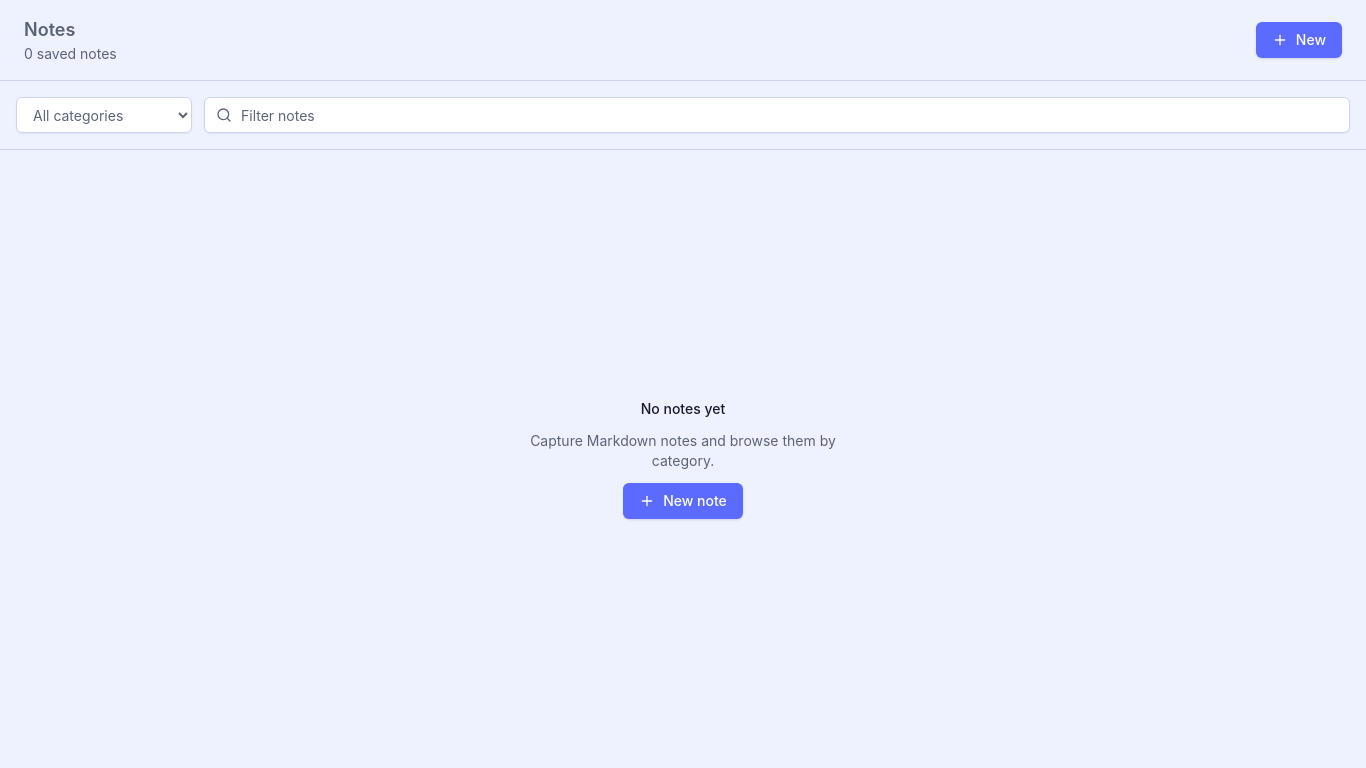
it: NotesListView › toggles write and preview modes in the editor
Click the button "New" at coordinates (1299, 40), box [1256, 22, 1342, 58]
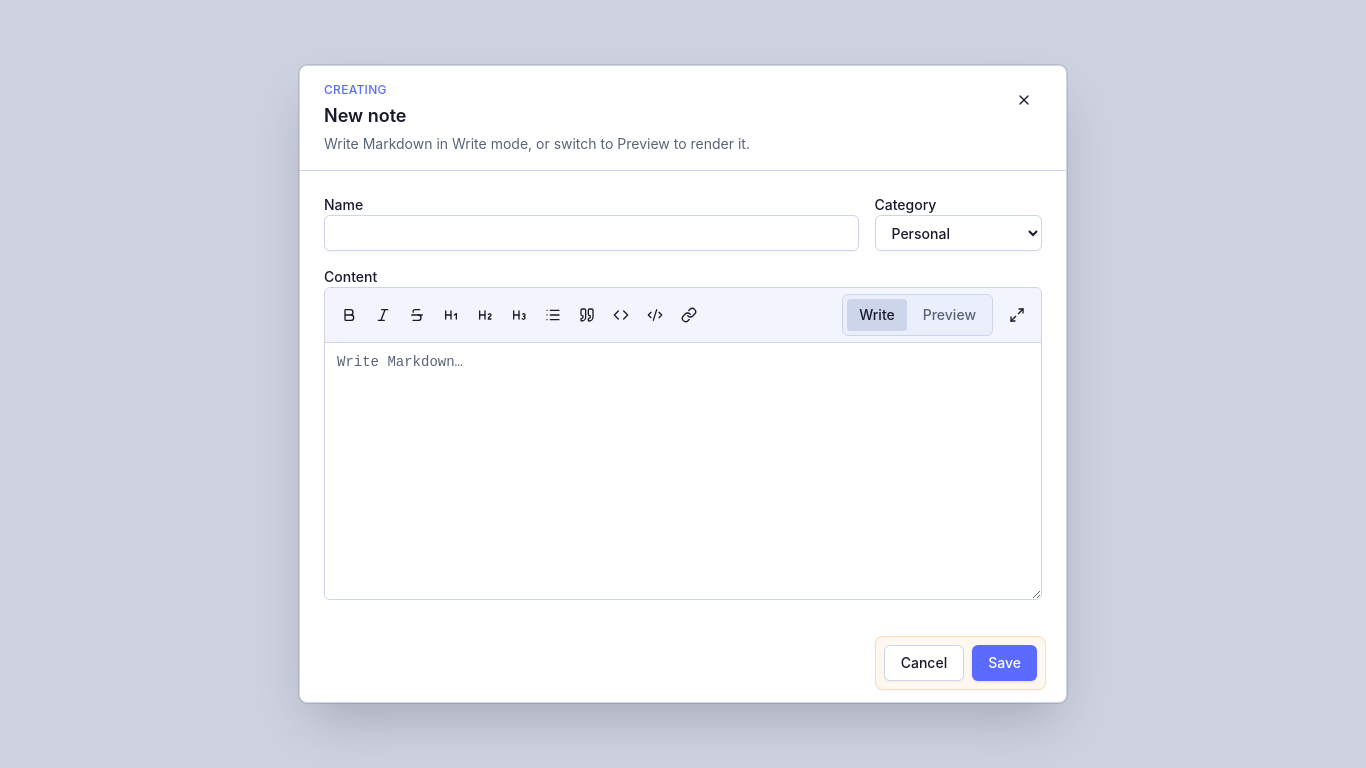
Type "Preview me" into the field named "Note name" at coordinates (591, 233), box [324, 215, 858, 251]
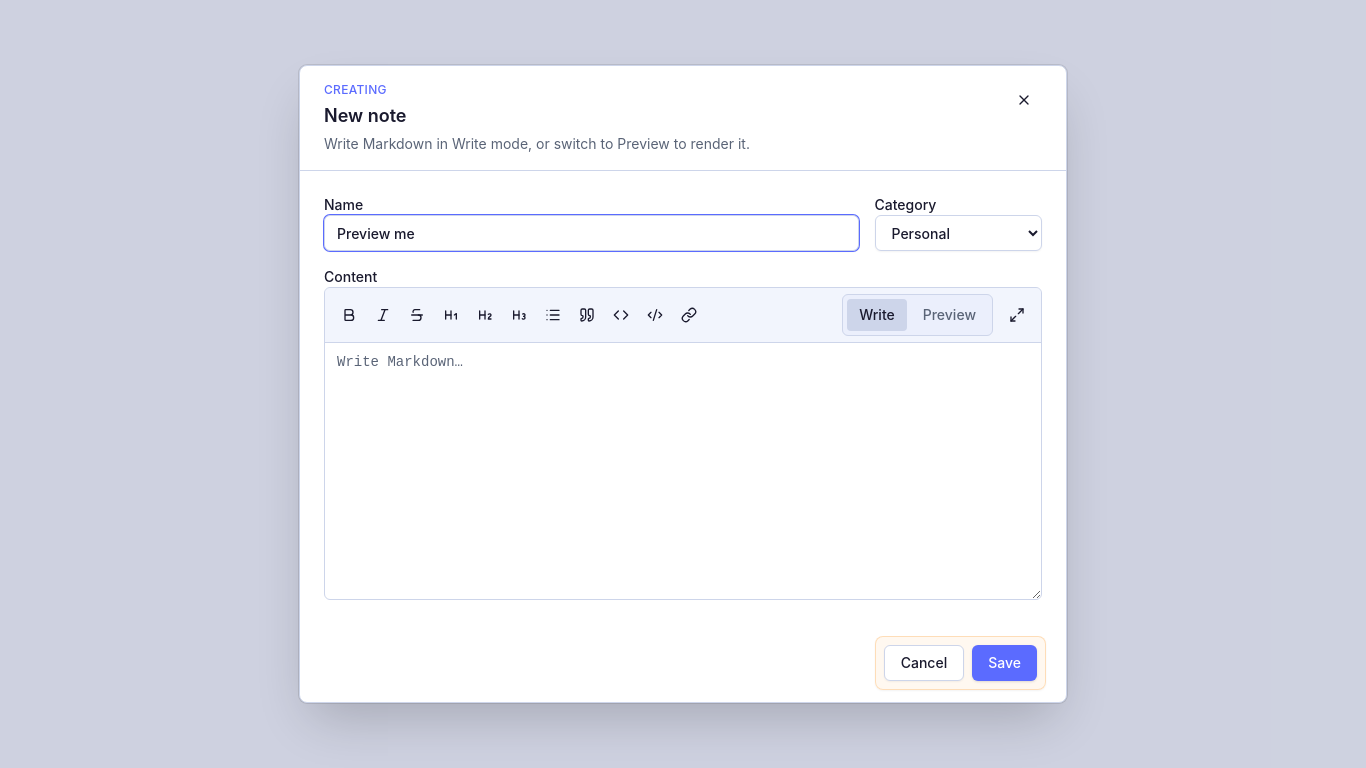
Type "**bold**" into the text box named "Note content" at coordinates (683, 471), box [325, 343, 1041, 599]
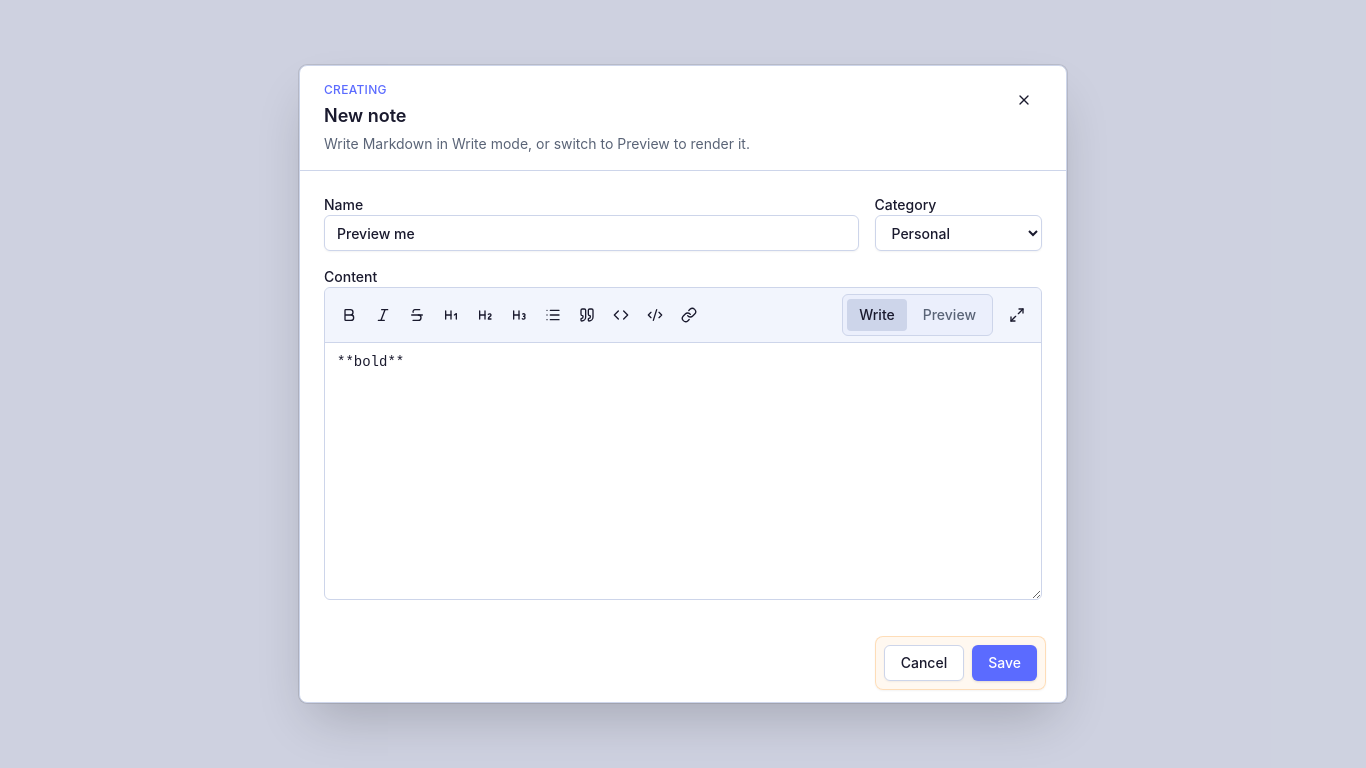
Click the radio button labelled "Preview" at coordinates (949, 315), box [911, 299, 988, 331]
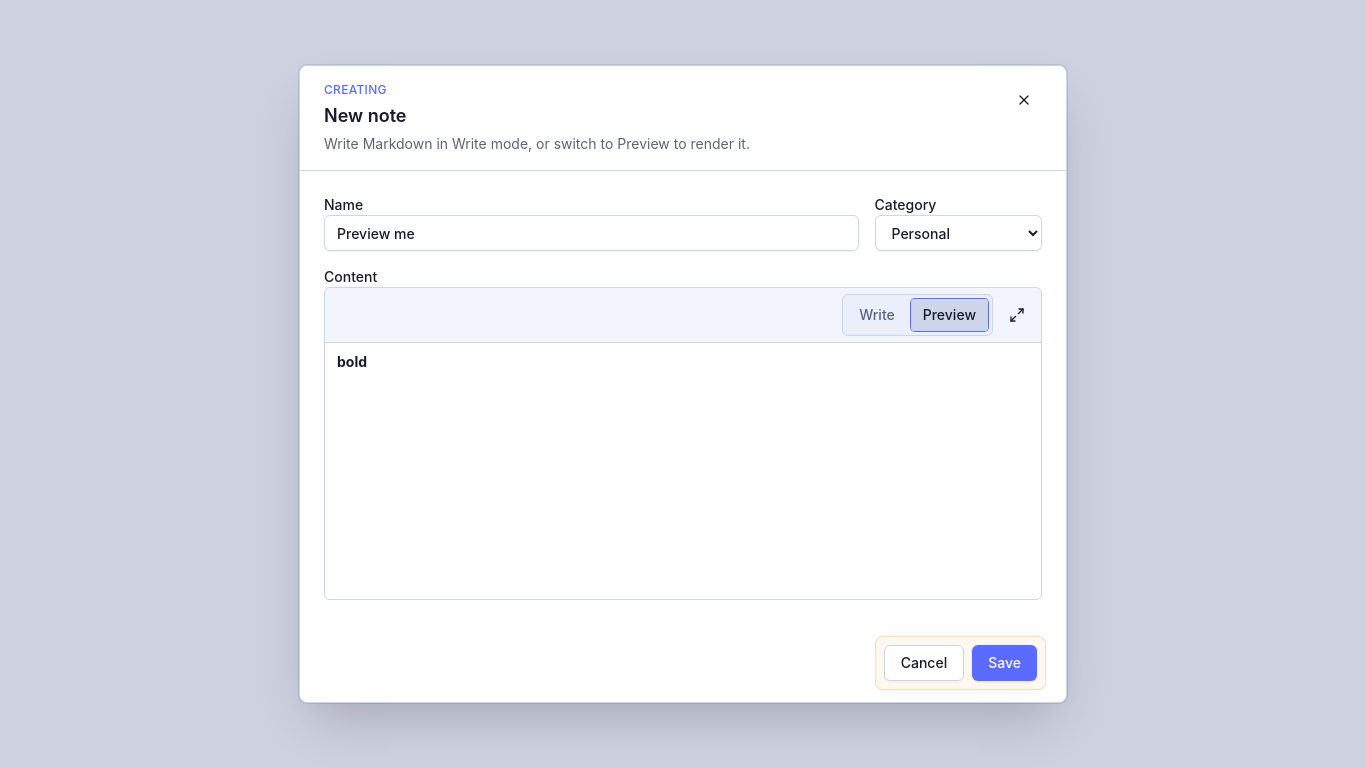
Result: the text "bold" is shown at [337, 353, 367, 370]
